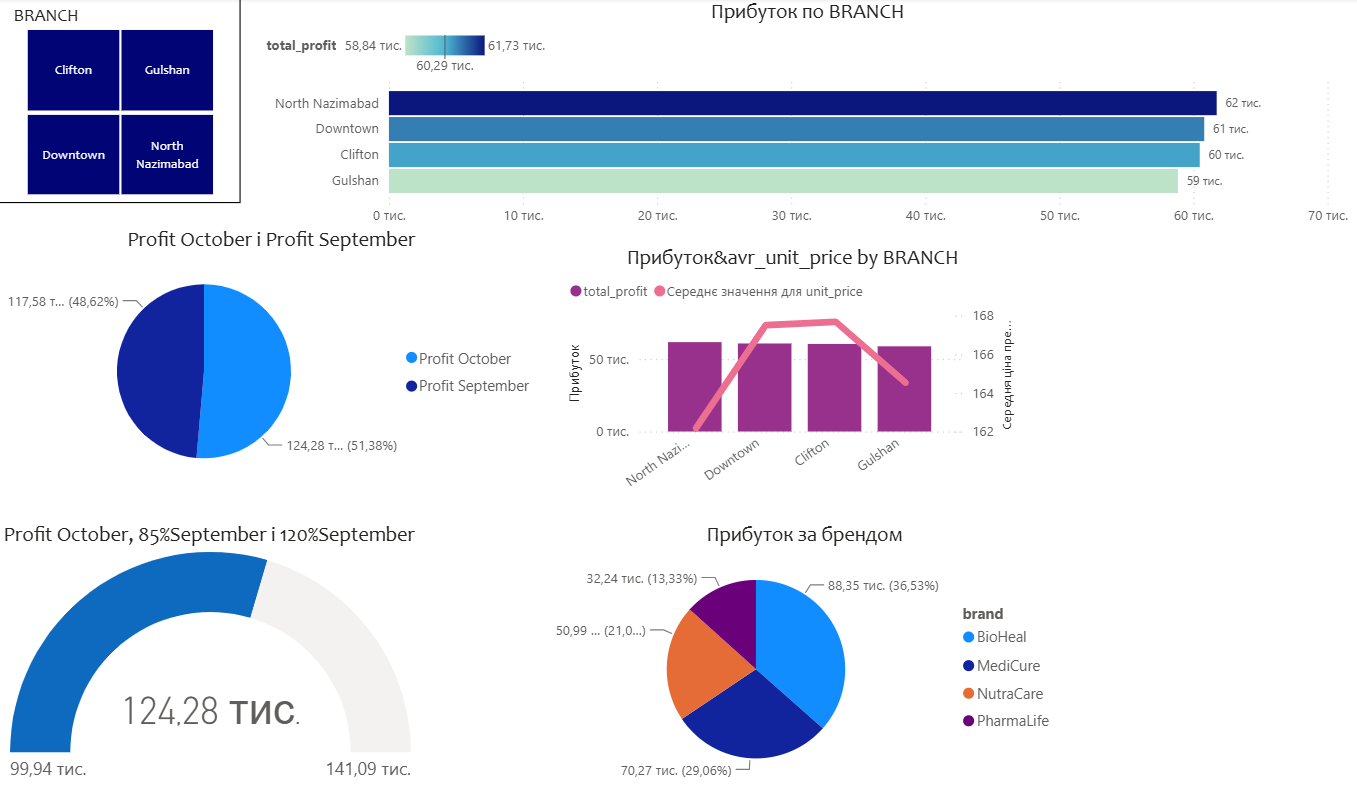

The page's visual inventory and layout, read from the dashboard file:
{"tool":"powerbi","page":{"name":"OVERALL","canvas":[1280,720],"ordinal":0},"visuals":[{"type":"slicer","fields":{"Values":["sales.BRANCH"]},"box":[0,0,220,186],"z":0},{"type":"clusteredBarChart","title":"Прибуток по BRANCH","fields":{"Category":["sales.BRANCH"],"Y":["sales.total_profit"]},"box":[238.9,0,991.1,215.6],"z":1},{"type":"pieChart","fields":{"Y":["sales.Profit October","sales.Profit September"]},"box":[0,206.8,495.6,240.6],"z":2},{"type":"gauge","fields":{"MaxValue":["sales.120%September"],"MinValue":["sales.85%September"],"Y":["sales.Profit October"]},"box":[0,474.3,385.4,245.7],"z":3},{"type":"pieChart","title":"Прибуток за брендом","fields":{"Category":["products.brand"],"Y":["sales.total_profit"]},"box":[495.1,474.3,472.4,245.7],"z":4},{"type":"lineClusteredColumnComboChart","title":"Прибуток&avr_unit_price by BRANCH","fields":{"Category":["sales.BRANCH"],"Y":["sales.total_profit"],"Y2":["Avg(sales.unit_price)"]},"box":[513.2,223.1,414.4,233],"z":5}]}

Visuals, with their boxes in screenshot pixels (x1, y1, x2, y2), scaled from the page's 1280x720 canvas onto the 1357x785 screenshot:
slicer - sales.BRANCH: (0,0,233,203)
"Прибуток по BRANCH" clusteredBarChart: (253,0,1304,235)
pieChart - sales.Profit October x sales.Profit September: (0,225,525,488)
gauge - sales.120%September x sales.85%September: (0,517,409,784)
"Прибуток за брендом" pieChart: (525,517,1026,784)
"Прибуток&avr_unit_price by BRANCH" lineClusteredColumnComboChart: (544,243,983,497)
